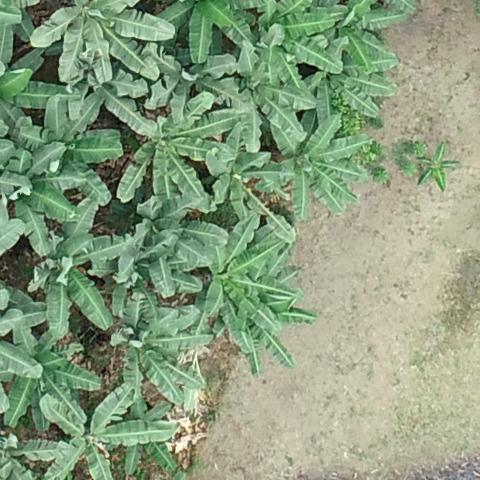Banana-plant: (30, 389, 183, 480), (33, 0, 180, 91), (117, 97, 229, 209), (21, 97, 132, 206), (265, 116, 375, 224), (203, 47, 312, 151), (27, 227, 127, 340), (108, 302, 215, 407), (129, 198, 231, 304), (2, 325, 94, 437), (0, 147, 91, 260), (200, 231, 299, 334), (298, 21, 391, 123), (225, 284, 316, 377), (413, 134, 462, 197)
